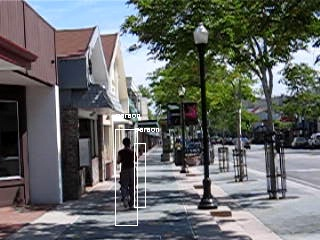person: (115, 136, 138, 211), (114, 136, 137, 211), (116, 136, 139, 211), (115, 135, 138, 210), (115, 137, 138, 212)
target_negative: (50, 50, 299, 125), (215, 79, 240, 215), (89, 8, 107, 182), (195, 166, 241, 195), (35, 65, 139, 73)
